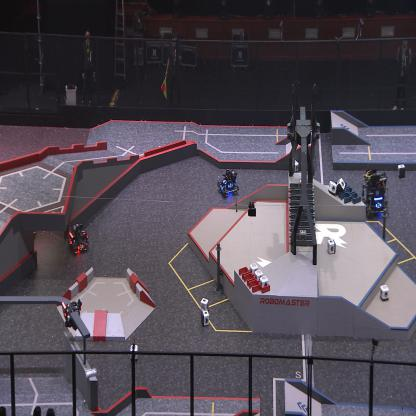car: (361, 169, 389, 220), (66, 222, 90, 256), (216, 166, 239, 198)
